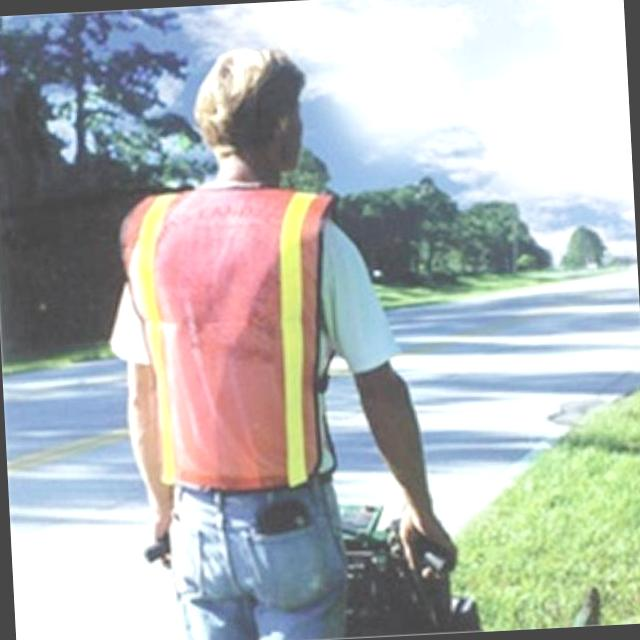vest: (128, 168, 335, 512)
